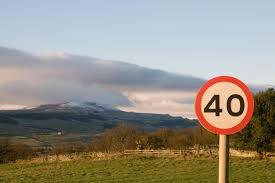Speed_limit_40km: (196, 77, 255, 133)
